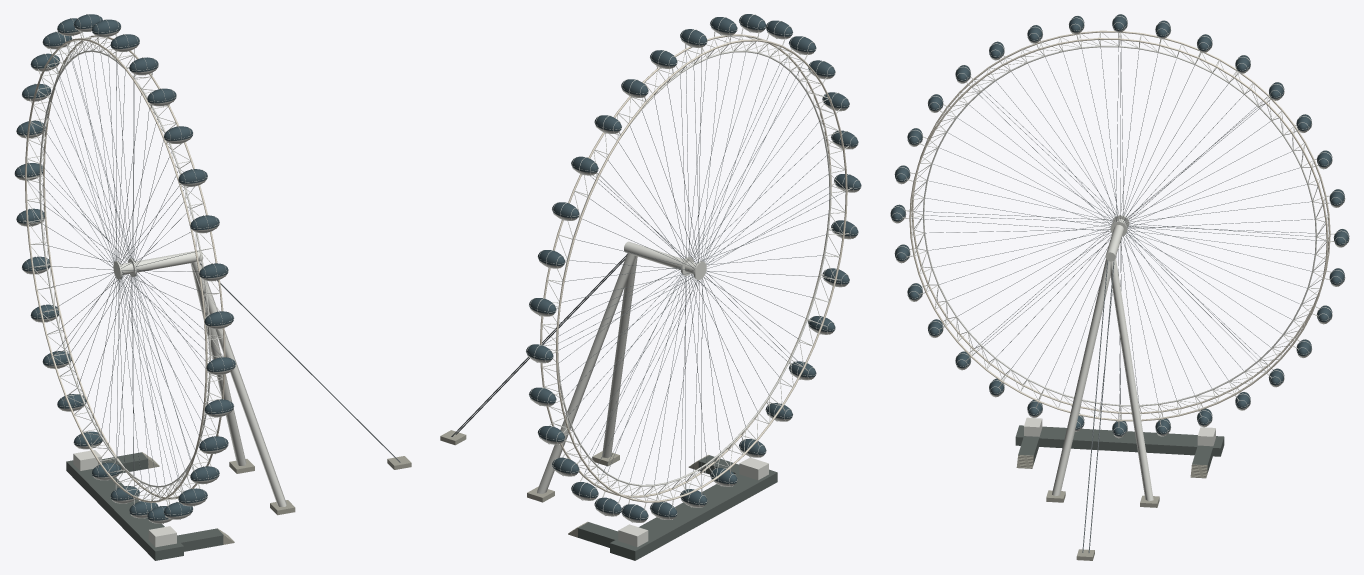
Rendered from london-eye-near.glb.
The picture shows the model from 3 angles, left to right: view 1: azimuth 30°, elevation 25°; view 2: azimuth 150°, elevation 25°; view 3: azimuth 270°, elevation 25°; orthographic projection. The views are drawn at different scales.
Parts seen in each view (by area): view 1: london-eye-0-steel, london-eye-0-cable, london-eye-0-glass, london-eye-0-light, london-eye-0-deck, london-eye-0-concrete; view 2: london-eye-0-steel, london-eye-0-cable, london-eye-0-glass, london-eye-0-light, london-eye-0-deck, london-eye-0-concrete; view 3: london-eye-0-steel, london-eye-0-cable, london-eye-0-glass, london-eye-0-light, london-eye-0-deck, london-eye-0-concrete.
Part boxes in pixels (bbox=[...]): london-eye-0-steel: bbox=[14, 14, 286, 547]; london-eye-0-cable: bbox=[26, 52, 400, 485]; london-eye-0-glass: bbox=[15, 14, 235, 520]; london-eye-0-light: bbox=[25, 35, 225, 502]; london-eye-0-deck: bbox=[66, 452, 223, 560]; london-eye-0-concrete: bbox=[142, 452, 411, 544]; london-eye-0-steel: bbox=[526, 14, 861, 546]; london-eye-0-cable: bbox=[451, 51, 845, 486]; london-eye-0-glass: bbox=[526, 14, 861, 520]; london-eye-0-light: bbox=[540, 34, 847, 502]; london-eye-0-deck: bbox=[578, 455, 777, 560]; london-eye-0-concrete: bbox=[440, 430, 708, 537]; london-eye-0-steel: bbox=[890, 14, 1349, 501]; london-eye-0-cable: bbox=[911, 35, 1326, 552]; london-eye-0-glass: bbox=[890, 14, 1349, 435]; london-eye-0-light: bbox=[909, 30, 1330, 421]; london-eye-0-deck: bbox=[1015, 425, 1224, 472]; london-eye-0-concrete: bbox=[1016, 455, 1207, 560].
Bounding box in the file's own units: 90.32 × 135 × 131.
